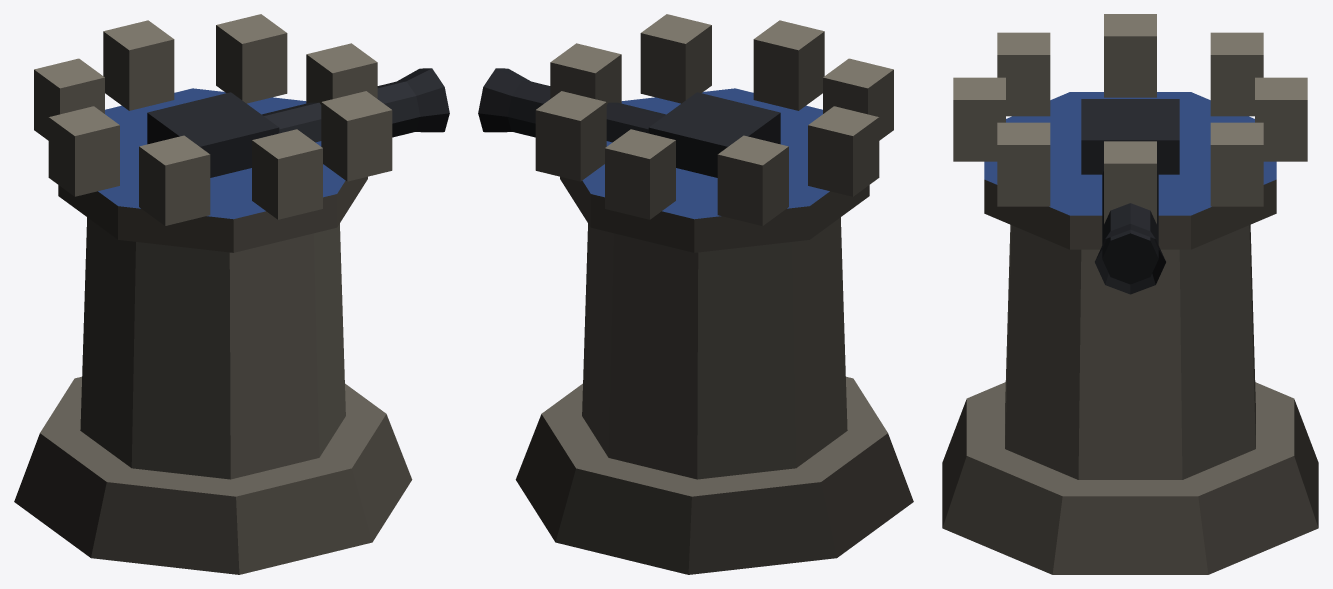
Rendered from tower.obj.
3 views of the same model, side by side, from view 1: azimuth 30°, elevation 25°; view 2: azimuth 150°, elevation 25°; view 3: azimuth 270°, elevation 25° (orthographic).
Size of the model in its own units: 1.18 by 1.19 by 0.9978.
